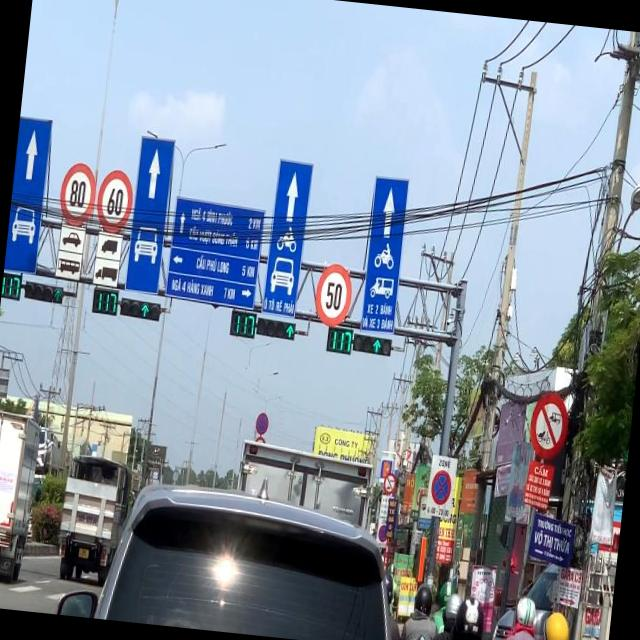P-127: (313, 262, 354, 328)
